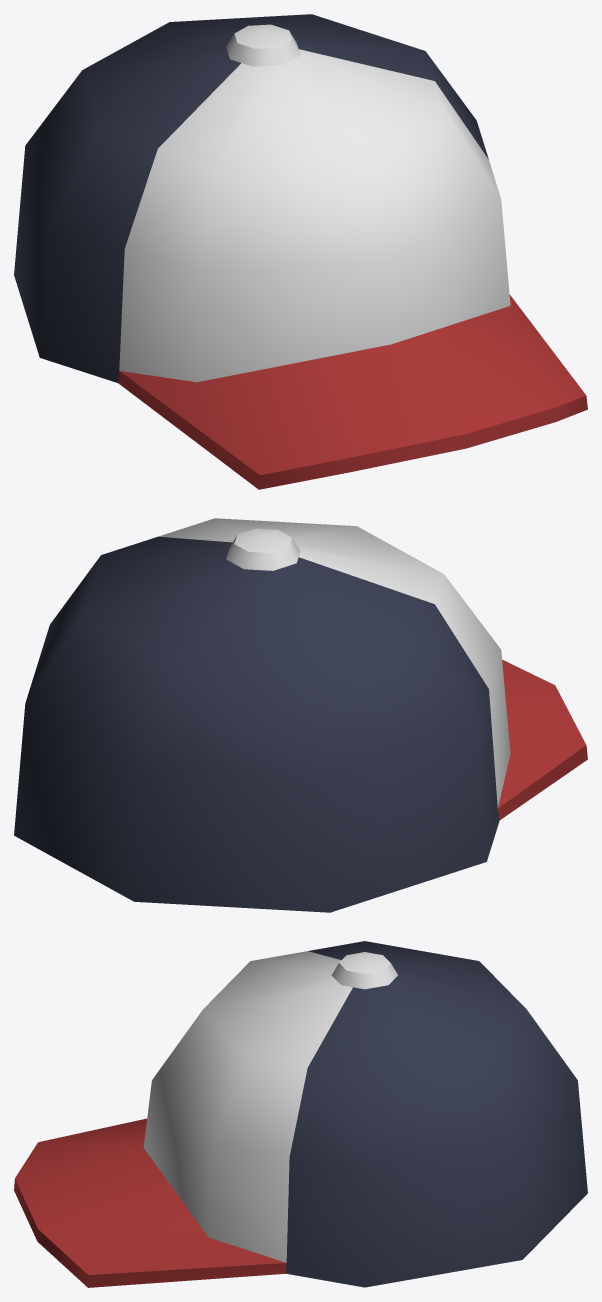
Rendered from 46_prop_hat.FBX.
3 views of the same model, one above another, from view 1: azimuth 30°, elevation 25°; view 2: azimuth 150°, elevation 25°; view 3: azimuth 270°, elevation 25° (orthographic). The views are drawn at different scales.
Parts seen in each view (by area): view 1: prop_hat; view 2: prop_hat; view 3: prop_hat.
Part boxes in pixels (x1,y1,x2,y2): prop_hat: [14, 14, 587, 489]; prop_hat: [14, 518, 587, 912]; prop_hat: [14, 941, 587, 1287].
Bounding box in the file's own units: 23.5 × 15.16 × 30.22.
